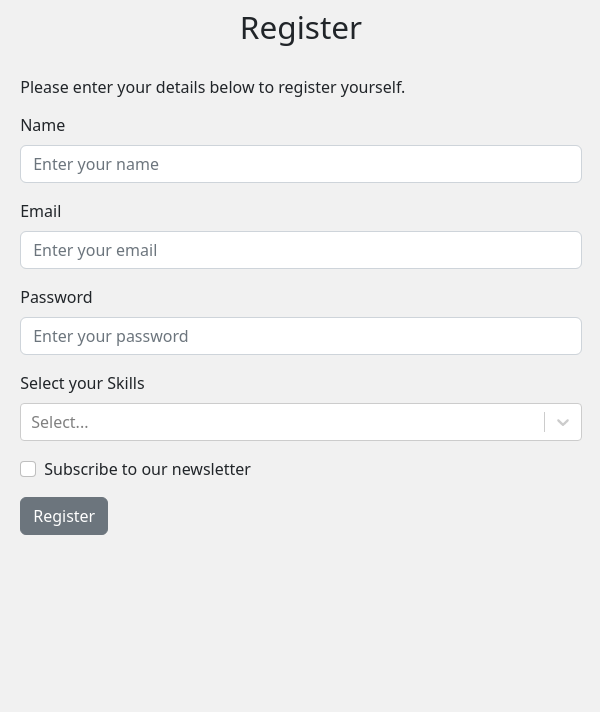
it: Register component › should show success message when the registration is successful
Type "lucas" into the field with test id "name" at (301, 164), box top-left (20, 145), bottom-right (582, 183)
Type "lucas@hotmail.com" into the field with test id "email" at (301, 250), box top-left (20, 231), bottom-right (582, 269)
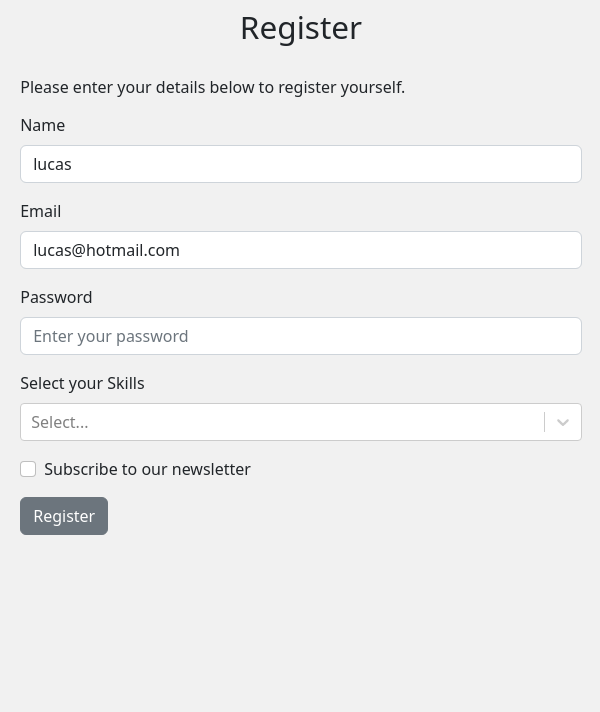
Type "123456" into the password field with test id "password" at (301, 336), box top-left (20, 317), bottom-right (582, 355)
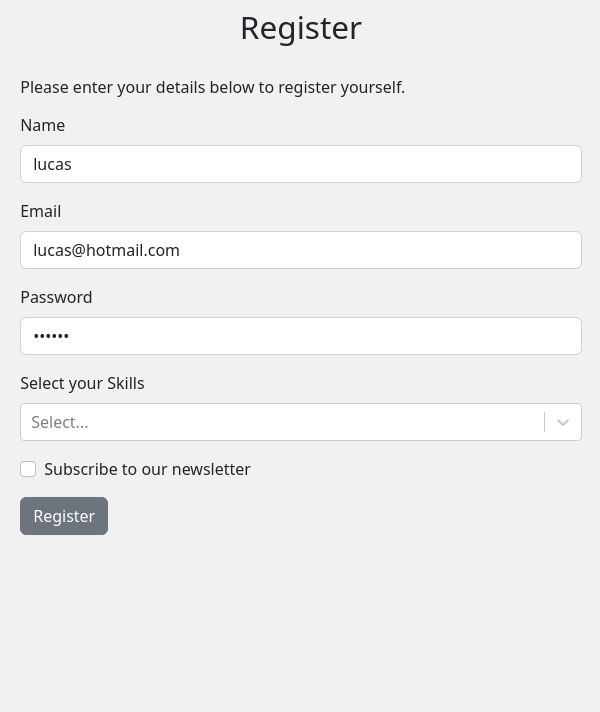
Click the element named "Select your Skills" at (301, 422), box top-left (20, 403), bottom-right (582, 441)
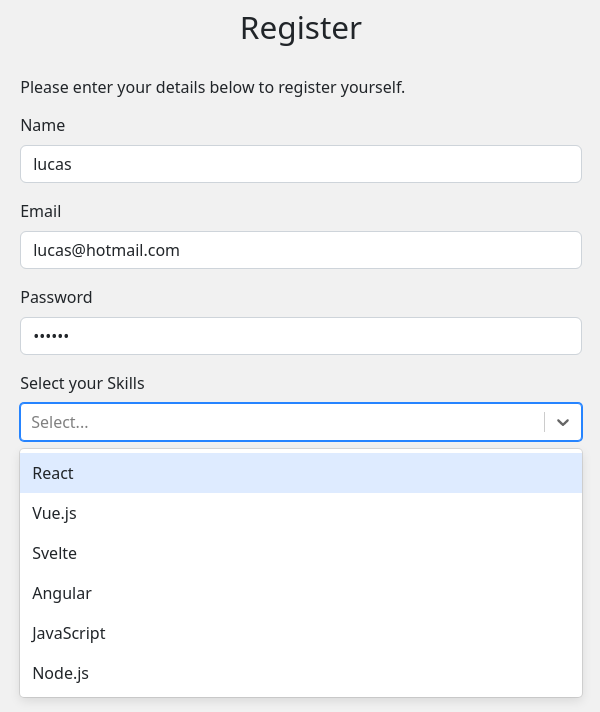
Click the option "React" at (53, 473), box top-left (20, 453), bottom-right (582, 493)
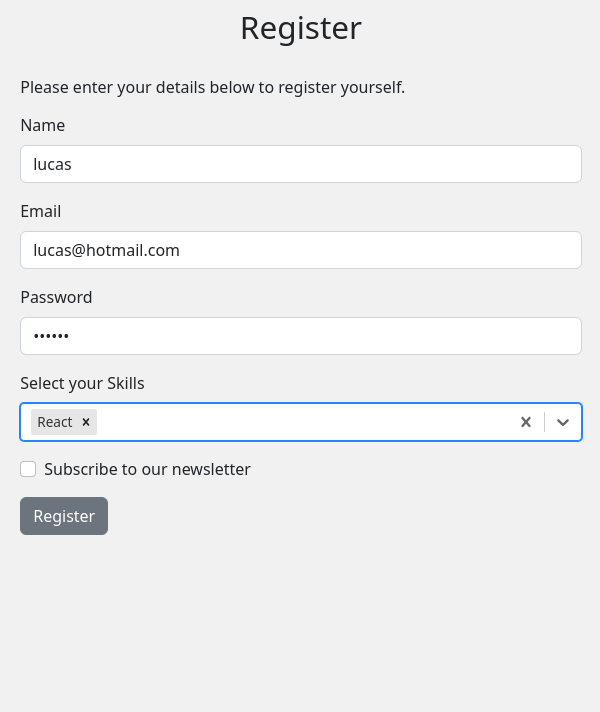
Click the checkbox with test id "news" at (28, 469), box top-left (20, 461), bottom-right (36, 477)
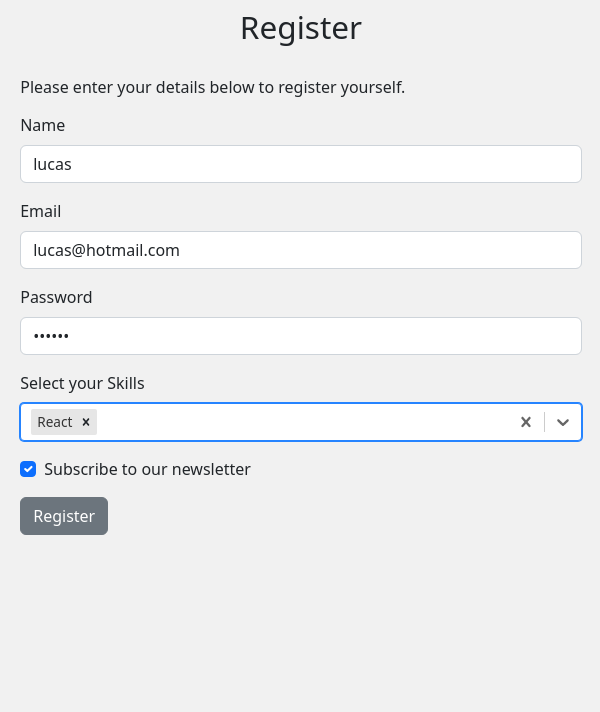
Click the button "Register" at (64, 516), box top-left (20, 497), bottom-right (108, 535)
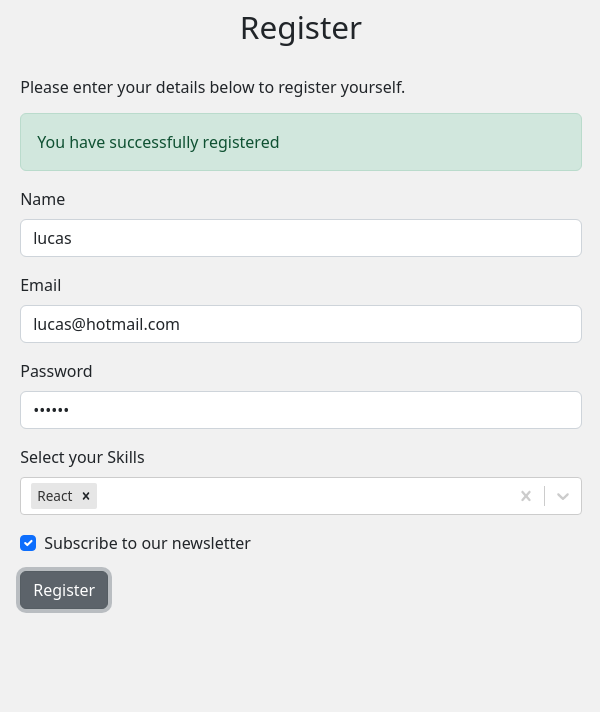
Expected: the message "You have successfully registered" is shown, top-left (20, 113), bottom-right (582, 171)
